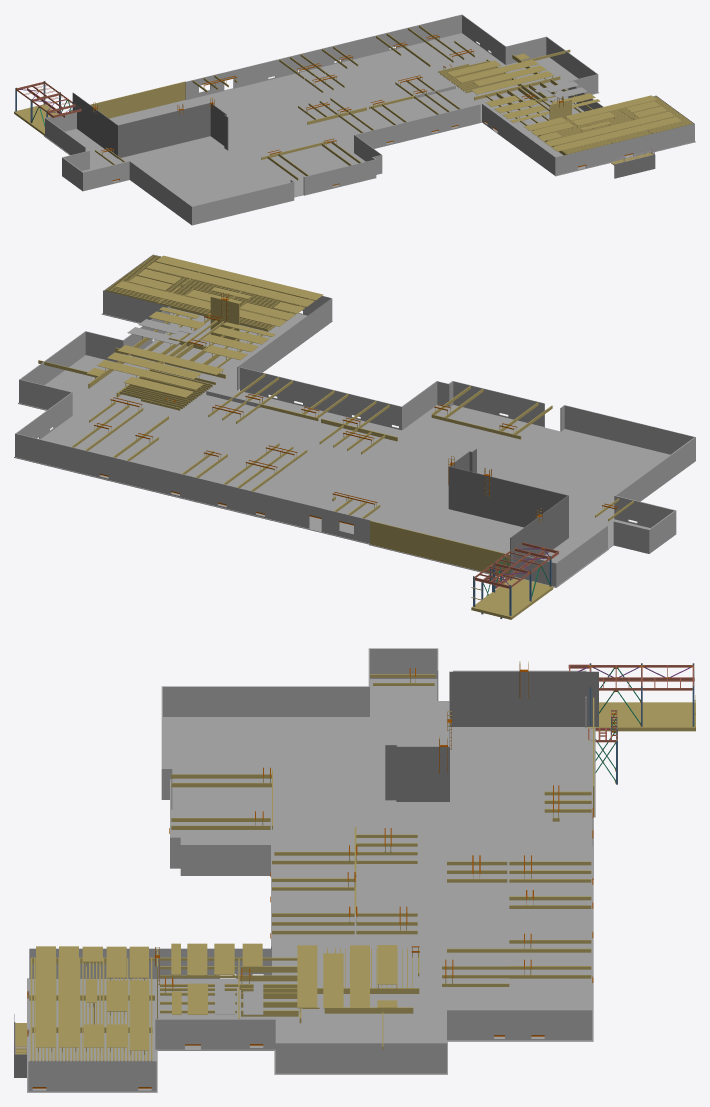
The model's file is todd-creek-wwtp.glb.
3 renders of one model, top to bottom at view 1: azimuth 30°, elevation 25°; view 2: azimuth 150°, elevation 25°; view 3: azimuth 270°, elevation 25°, orthographic. The views are drawn at different scales.
Visible parts, largest first — view 1: empty_2092, empty_2093, empty_195, empty_173, empty_174, empty_4163, empty_4020, empty_182, empty_193, empty_191, empty_192, empty_196; view 2: empty_2092, empty_2093, empty_195, empty_4020, empty_173, empty_174, empty_4163, empty_193, empty_191, empty_196, empty_182, empty_192; view 3: empty_2092, empty_2093, empty_4020, empty_173, empty_174, empty_182, empty_193, empty_191, empty_4163, empty_192, empty_189, empty_354 (+2 smaller).
Part boxes in pixels (left/top/right/bottom): empty_2092: left=44, top=14, right=695, bottom=225; empty_2093: left=72, top=92, right=655, bottom=178; empty_195: left=90, top=81, right=185, bottom=118; empty_173: left=551, top=117, right=681, bottom=151; empty_174: left=544, top=112, right=674, bottom=146; empty_4163: left=16, top=82, right=81, bottom=118; empty_4020: left=14, top=104, right=58, bottom=135; empty_182: left=565, top=95, right=656, bottom=120; empty_193: left=471, top=71, right=554, bottom=94; empty_191: left=455, top=59, right=538, bottom=82; empty_192: left=473, top=65, right=546, bottom=86; empty_196: left=549, top=99, right=571, bottom=119; empty_2092: left=14, top=254, right=695, bottom=587; empty_2093: left=448, top=449, right=568, bottom=580; empty_195: left=370, top=520, right=509, bottom=577; empty_4020: left=471, top=577, right=553, bottom=619; empty_173: left=155, top=255, right=323, bottom=300; empty_174: left=147, top=262, right=314, bottom=306; empty_4163: left=475, top=542, right=558, bottom=588; empty_193: left=117, top=345, right=224, bottom=374; empty_191: left=97, top=360, right=203, bottom=389; empty_196: left=210, top=296, right=239, bottom=341; empty_182: left=115, top=281, right=210, bottom=309; empty_192: left=107, top=352, right=201, bottom=379; empty_2092: left=27, top=648, right=595, bottom=1092; empty_2093: left=14, top=671, right=598, bottom=1077; empty_4020: left=587, top=702, right=695, bottom=731; empty_173: left=36, top=946, right=55, bottom=1047; empty_174: left=59, top=946, right=78, bottom=1047; empty_182: left=129, top=980, right=149, bottom=1050; empty_193: left=297, top=945, right=317, bottom=1008; empty_191: left=350, top=945, right=369, bottom=1008; empty_4163: left=568, top=664, right=694, bottom=690; empty_192: left=323, top=953, right=343, bottom=1008; empty_189: left=377, top=945, right=397, bottom=984; empty_354: left=447, top=948, right=591, bottom=952.
Bounding box in the file's own units: 116 × 14.3 × 80.73.
